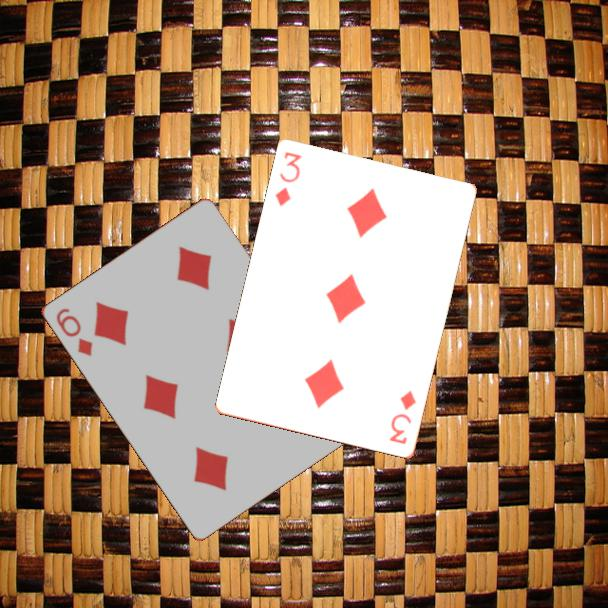d03: (386, 387, 419, 448), (272, 149, 305, 210)
d06: (52, 304, 95, 359)
